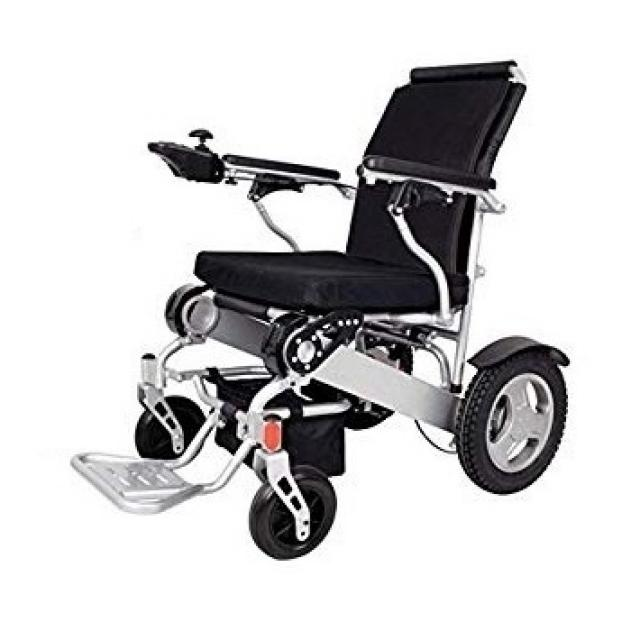wheelchair: (66, 52, 594, 567)
